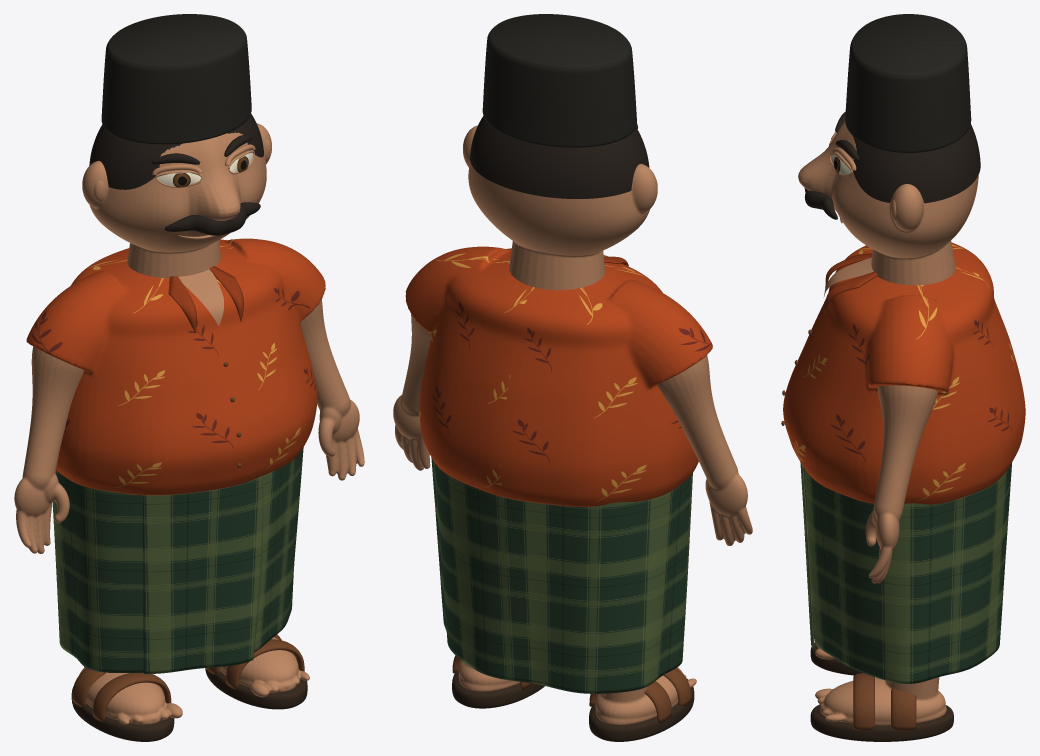
Rendered from pak_mat_C.glb.
3 views of the same model, side by side, from view 1: azimuth 30°, elevation 25°; view 2: azimuth 150°, elevation 25°; view 3: azimuth 270°, elevation 25° (orthographic). The views are drawn at different scales.
Parts seen in each view (by area): view 1: C_batik_shirt, C_sarong_wrap, C_sarong_front_overlap, C_songkok, C_head_neck_ears, C_right_arm_hand, C_left_arm_hand, C_feet_ankles, C_hair, C_sandal_soles, C_sandal_straps, C_batik_collar (+4 smaller); view 2: C_batik_shirt, C_sarong_wrap, C_songkok, C_head_neck_ears, C_hair, C_right_arm_hand, C_sandal_soles, C_feet_ankles, C_left_arm_hand, C_sandal_straps; view 3: C_batik_shirt, C_sarong_wrap, C_songkok, C_head_neck_ears, C_left_arm_hand, C_hair, C_feet_ankles, C_sandal_soles, C_sandal_straps, C_batik_collar, C_sarong_front_overlap, C_upper_chest_inset (+1 smaller).
Boxes of the visible parts, box(x1,y1,x2,y2) form: C_batik_shirt: box(26, 238, 325, 495); C_sarong_wrap: box(52, 447, 303, 672); C_sarong_front_overlap: box(142, 475, 263, 673); C_songkok: box(101, 14, 251, 144); C_head_neck_ears: box(82, 123, 271, 278); C_right_arm_hand: box(14, 346, 83, 553); C_left_arm_hand: box(300, 299, 364, 480); C_feet_ankles: box(79, 637, 309, 724); C_hair: box(89, 113, 263, 189); C_sandal_soles: box(71, 668, 307, 741); C_sandal_straps: box(72, 634, 304, 721); C_batik_collar: box(168, 266, 243, 333); C_batik_shirt: box(405, 246, 712, 506); C_sarong_wrap: box(431, 457, 692, 693); C_songkok: box(482, 14, 636, 147); C_head_neck_ears: box(463, 125, 657, 290); C_hair: box(470, 116, 649, 198); C_right_arm_hand: box(657, 355, 752, 545); C_sandal_soles: box(452, 670, 694, 741); C_feet_ankles: box(458, 659, 696, 725); C_left_arm_hand: box(393, 313, 431, 470); C_sandal_straps: box(452, 655, 691, 723); C_batik_shirt: box(783, 242, 1025, 504); C_sarong_wrap: box(804, 462, 1012, 683); C_songkok: box(845, 14, 971, 152); C_head_neck_ears: box(798, 121, 978, 285); C_left_arm_hand: box(865, 385, 937, 583); C_hair: box(853, 124, 980, 203); C_feet_ankles: box(815, 647, 946, 725); C_sandal_soles: box(810, 642, 953, 741); C_sandal_straps: box(853, 673, 916, 730); C_batik_collar: box(825, 253, 877, 312); C_sarong_front_overlap: box(800, 462, 814, 649); C_upper_chest_inset: box(823, 257, 873, 297).
Size of the model in its own units: 0.9174 by 1.66 by 0.5657.
Materials: 12 (6 with a texture image).
